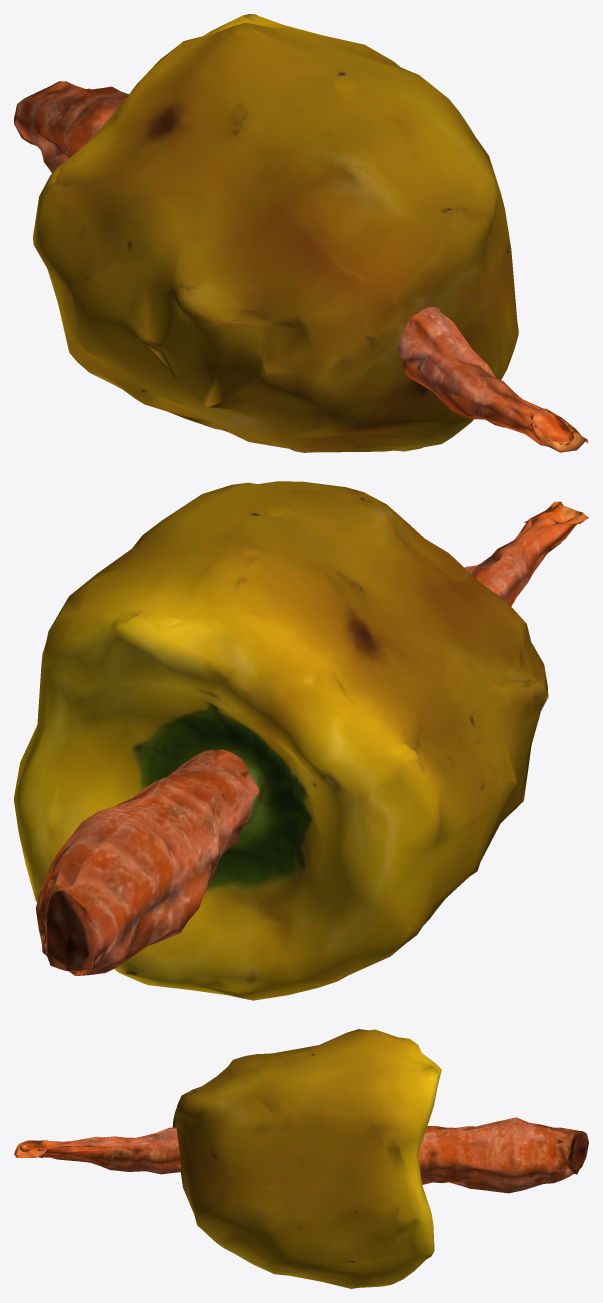
File: Left_Yellow pepper.obj
3 renders of one model, top to bottom at view 1: azimuth 30°, elevation 25°; view 2: azimuth 150°, elevation 25°; view 3: azimuth 270°, elevation 25°, orthographic. The views are drawn at different scales.
Visible parts, largest first — view 1: Left_Yellow_pepper_carrot; view 2: Left_Yellow_pepper_carrot; view 3: Left_Yellow_pepper_carrot.
Boxes of the visible parts, left/top/right/bottom form: Left_Yellow_pepper_carrot: left=14, top=14, right=588, bottom=452; Left_Yellow_pepper_carrot: left=14, top=481, right=588, bottom=1000; Left_Yellow_pepper_carrot: left=14, top=1029, right=588, bottom=1288.
Size of the model in its own units: 0.8711 by 0.8943 by 2.01.
Materials: 2 (2 with a texture image).
